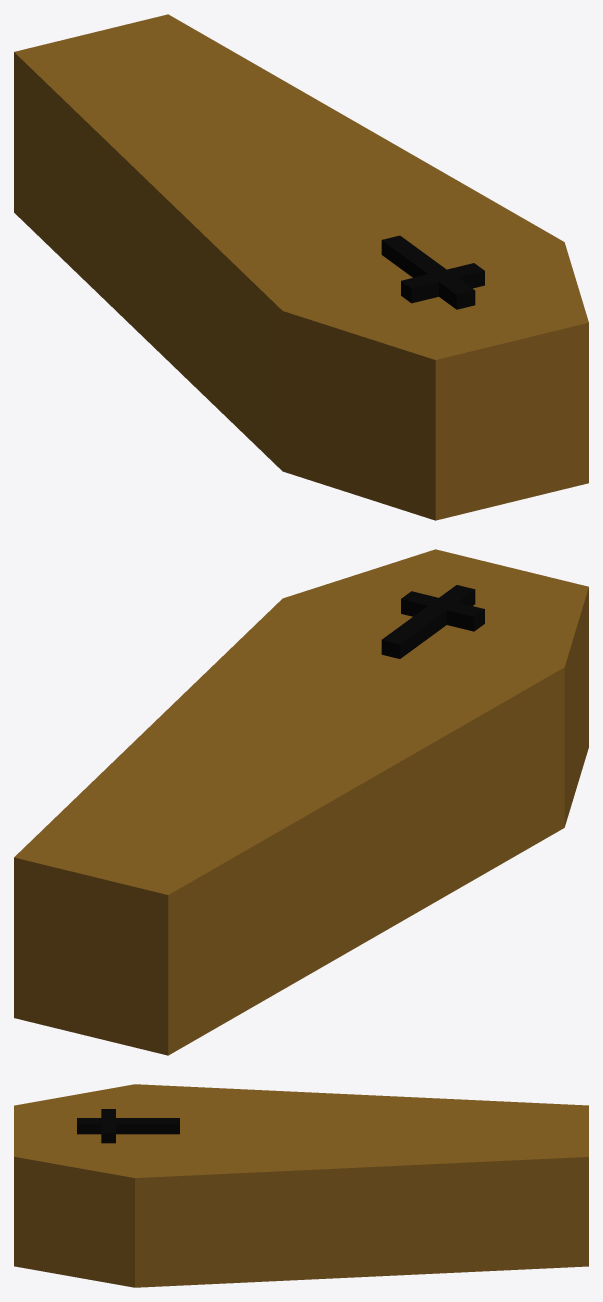
The model's file is coffin.fbx.
3 views of the same model, one above another, from view 1: azimuth 30°, elevation 25°; view 2: azimuth 150°, elevation 25°; view 3: azimuth 270°, elevation 25° (orthographic). The views are drawn at different scales.
Parts seen in each view (by area): view 1: Cube, Cube.001, Cube.002; view 2: Cube, Cube.001, Cube.002; view 3: Cube, Cube.001, Cube.002.
Boxes of the visible parts, x1=… form: Cube: x1=14, y1=14, x2=588, y2=520; Cube.001: x1=381, y1=235, x2=475, y2=309; Cube.002: x1=401, y1=263, x2=484, y2=303; Cube: x1=14, y1=549, x2=588, y2=1055; Cube.001: x1=381, y1=585, x2=475, y2=658; Cube.002: x1=401, y1=591, x2=484, y2=631; Cube: x1=14, y1=1084, x2=588, y2=1287; Cube.001: x1=77, y1=1118, x2=179, y2=1134; Cube.002: x1=101, y1=1109, x2=115, y2=1143.
Bounding box in the file's own units: 368 × 218 × 951.
